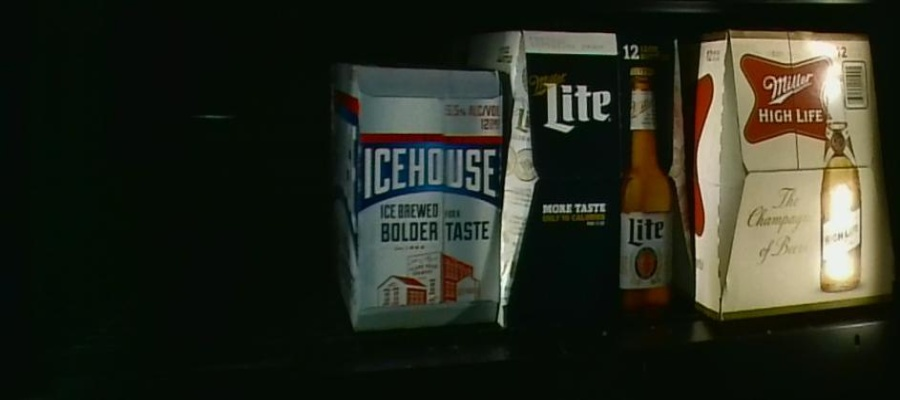bottle: (696, 31, 893, 310), (505, 30, 690, 322), (331, 60, 501, 337)
